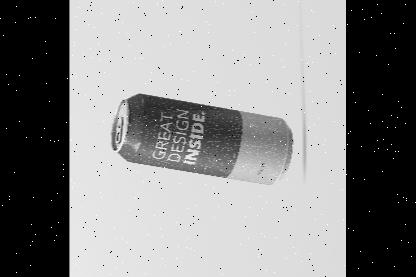Can: (111, 92, 293, 183)
